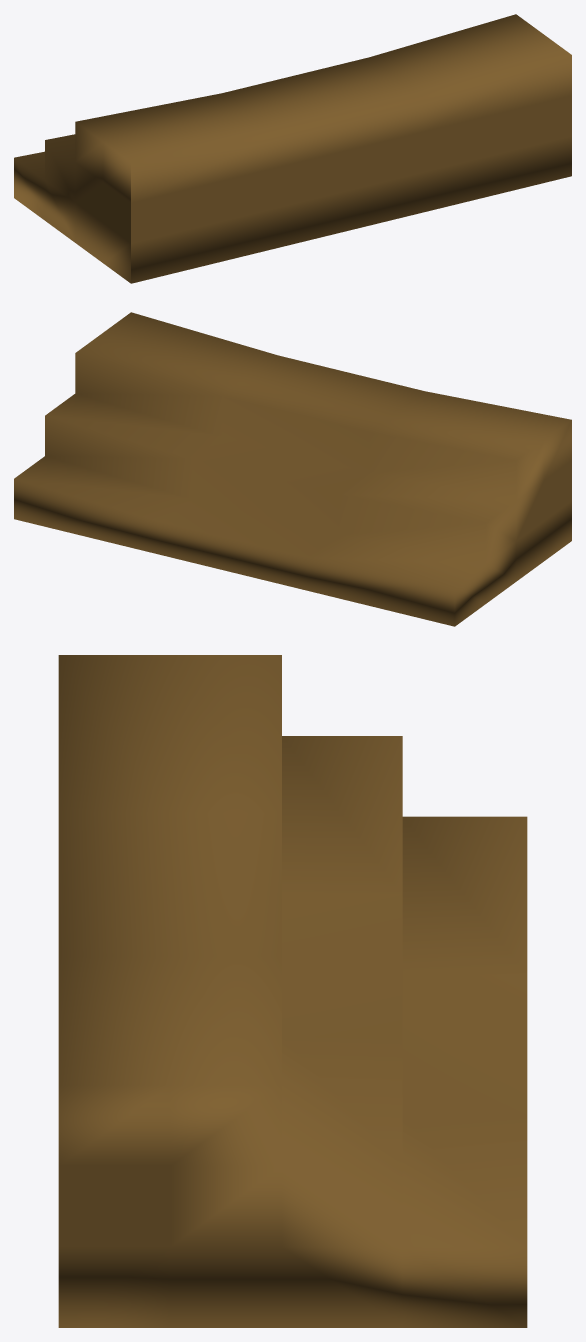
The model's file is threeStairs.fbx.
3 views of the same model, one above another, from view 1: azimuth 30°, elevation 25°; view 2: azimuth 150°, elevation 25°; view 3: azimuth 270°, elevation 25° (orthographic). The views are drawn at different scales.
Visible parts, largest first — view 1: stairs; view 2: stairs; view 3: stairs.
Boxes of the visible parts, x1,y1,x2,y2 form: stairs: [14, 14, 571, 283]; stairs: [14, 312, 571, 626]; stairs: [58, 655, 527, 1327].
Size of the model in its own units: 200 by 52.55 by 92.04.
